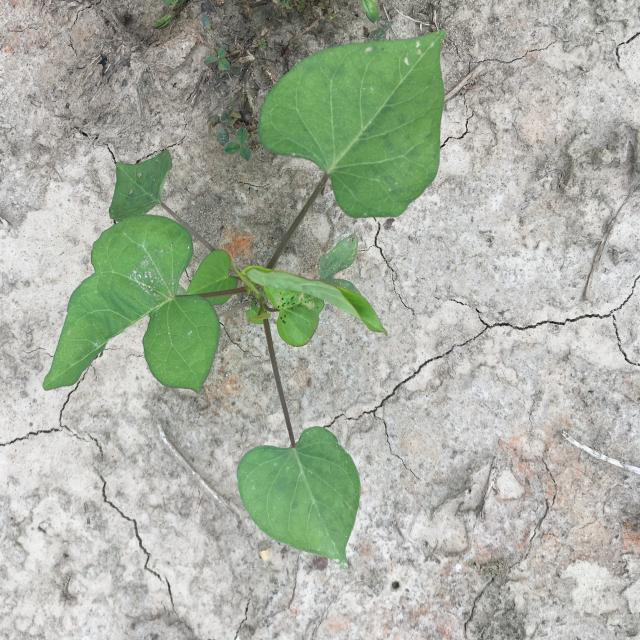MorningGlory: (42, 31, 446, 569)
